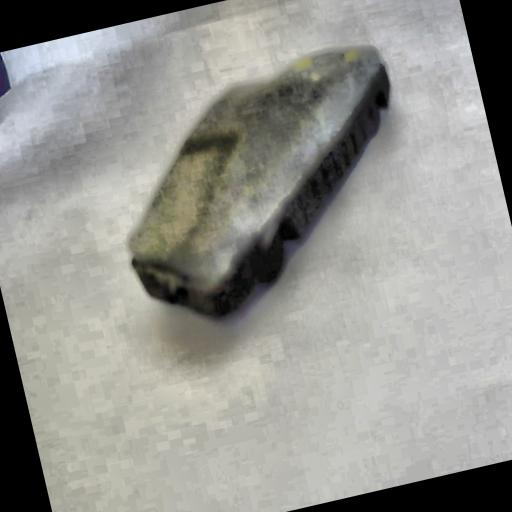normal_car: (78, 20, 446, 350)
